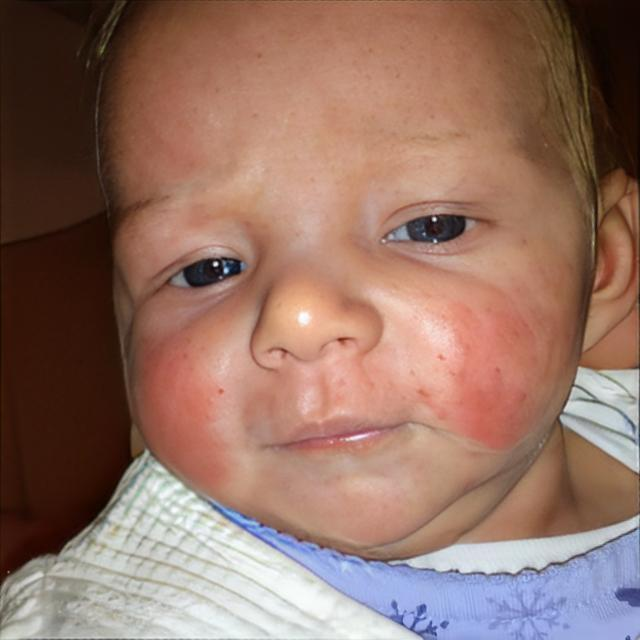sad: (91, 0, 602, 550)
